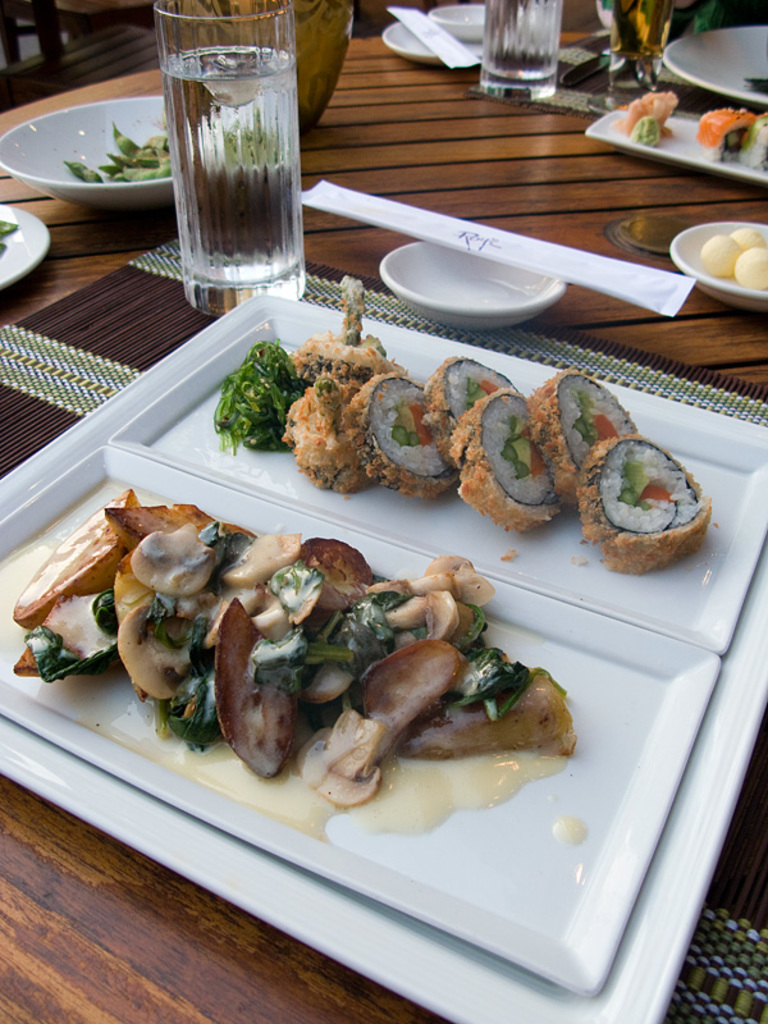sushi: (344, 356, 704, 573), (608, 439, 710, 562)
